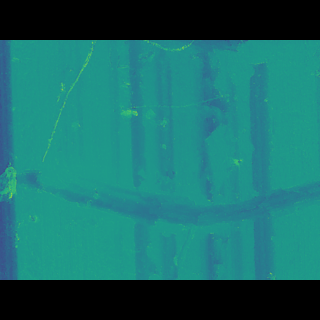Loch: (7, 162, 319, 218)
